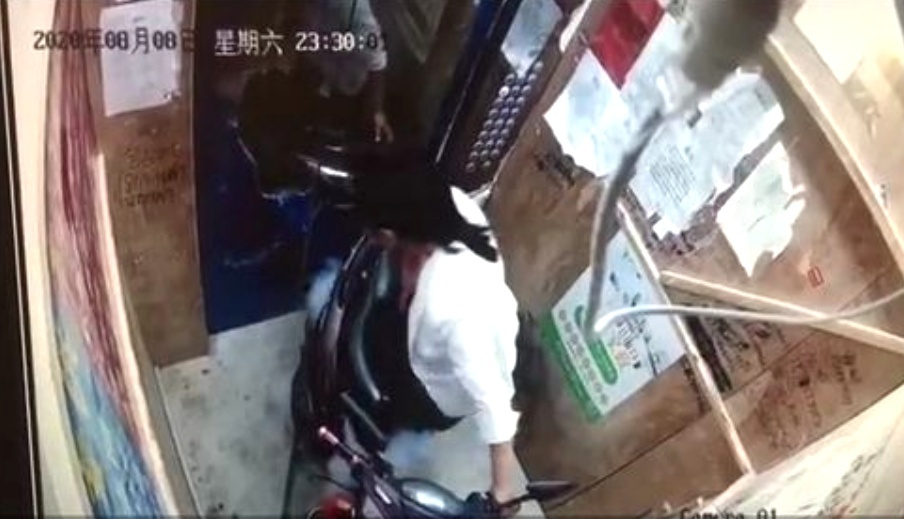ebike: (289, 211, 580, 514)
person: (355, 146, 546, 514)
